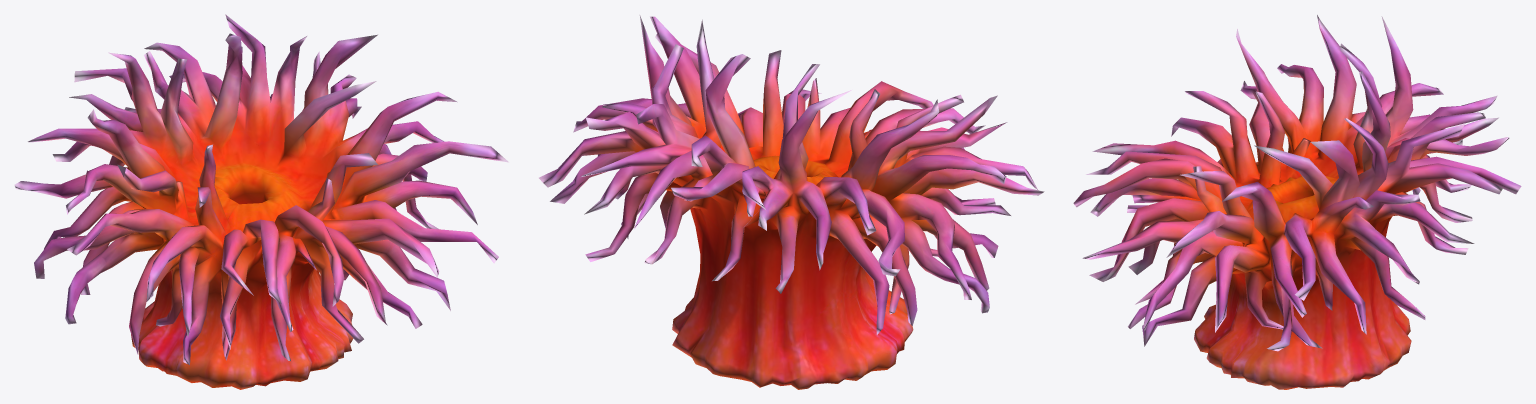
Rendered from Anemone.obj.
3 renders of one model, left to right at view 1: azimuth 30°, elevation 25°; view 2: azimuth 150°, elevation 25°; view 3: azimuth 270°, elevation 25°, orthographic. The views are drawn at different scales.
Bounding box in the file's own units: 1 × 0.677 × 0.953.
1 material, 1 textured.
